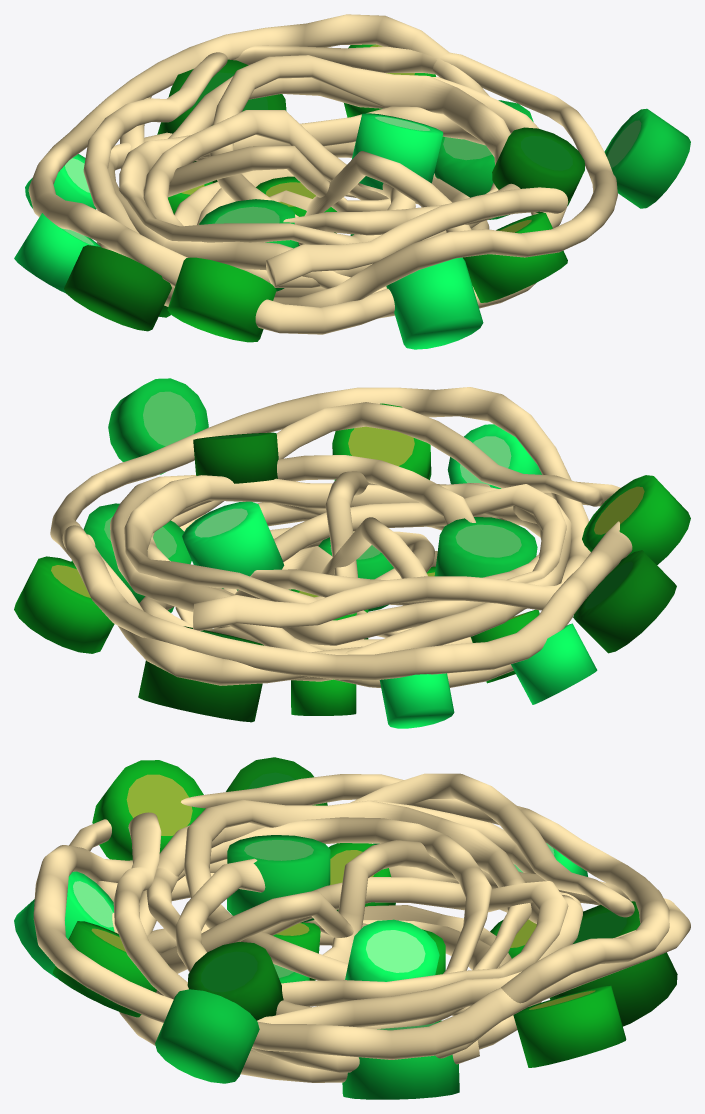
The model's file is bami_cooked_model.fbx.
3 views of the same model, one above another, from view 1: azimuth 30°, elevation 25°; view 2: azimuth 150°, elevation 25°; view 3: azimuth 270°, elevation 25° (orthographic). The views are drawn at different scales.
Parts seen in each view (by area): view 1: CookedBami; view 2: CookedBami; view 3: CookedBami.
Boxes of the visible parts, x1,y1,x2,y2 form: CookedBami: (14,14,690,349); CookedBami: (14,378,690,728); CookedBami: (14,757,690,1099).
Size of the model in its own units: 33.57 by 35.21 by 8.68.
